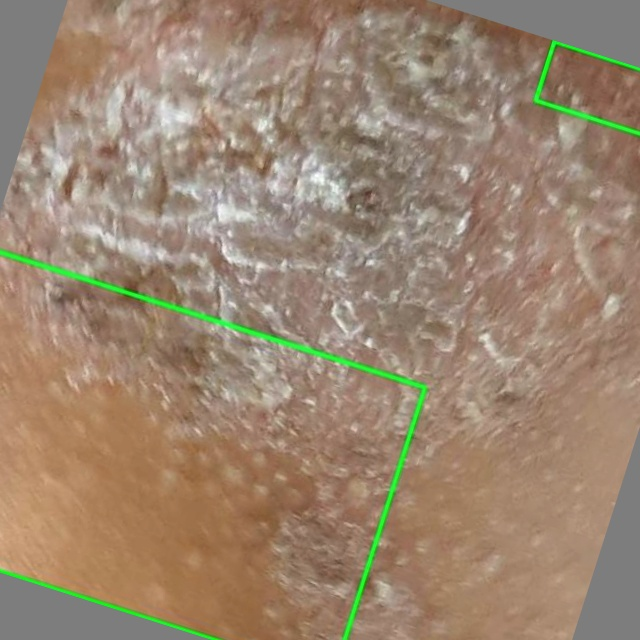Contact Dermatitis: (0, 252, 425, 639)
